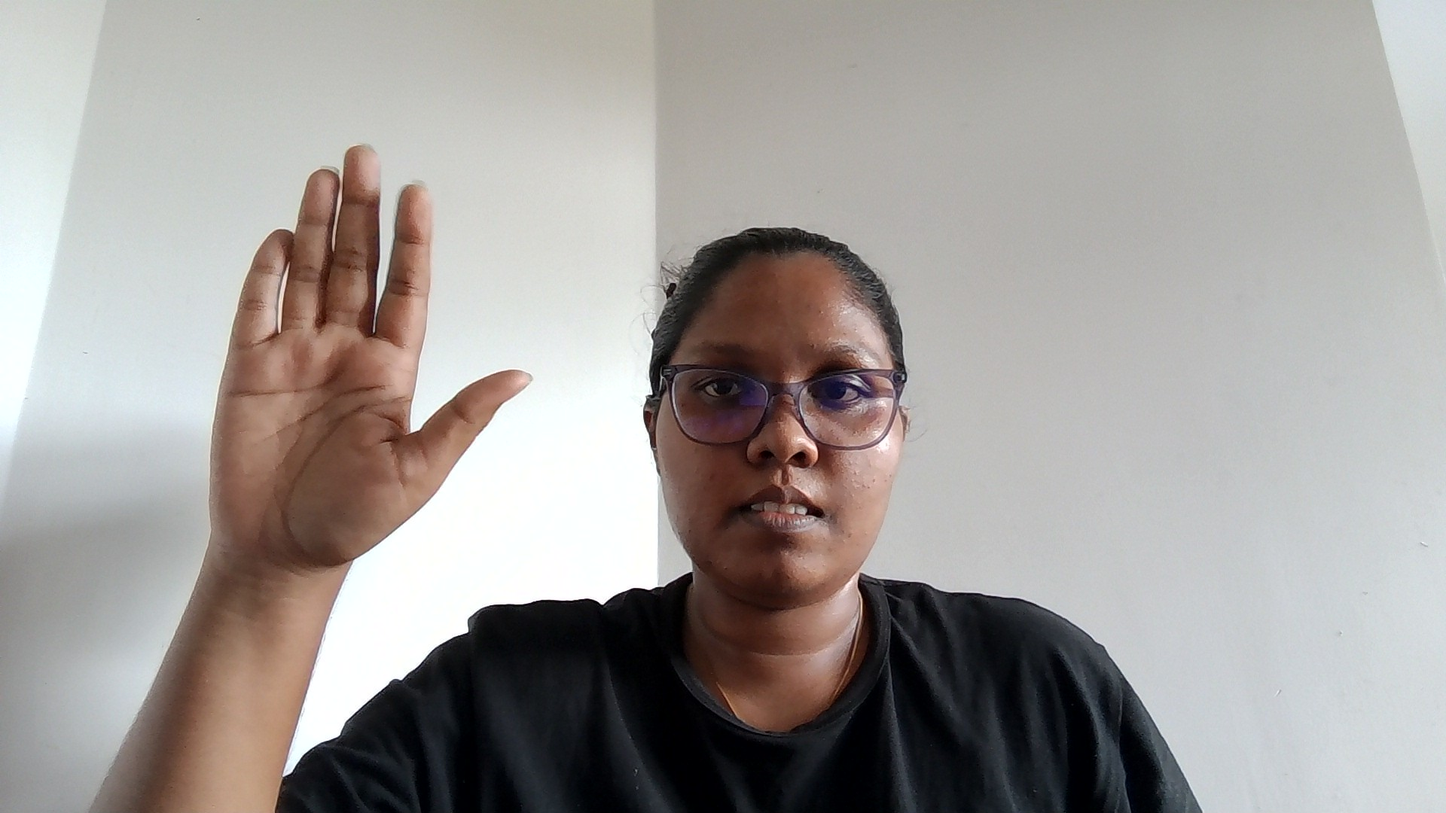Hello: (198, 110, 549, 629)
